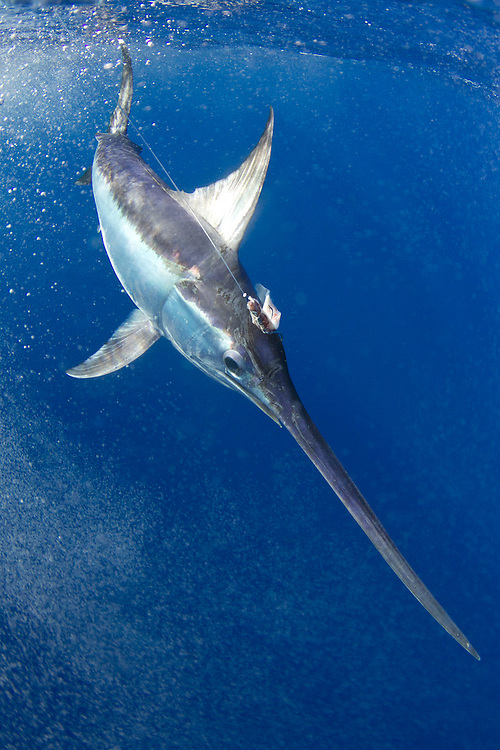swordfish: (64, 52, 484, 688)
